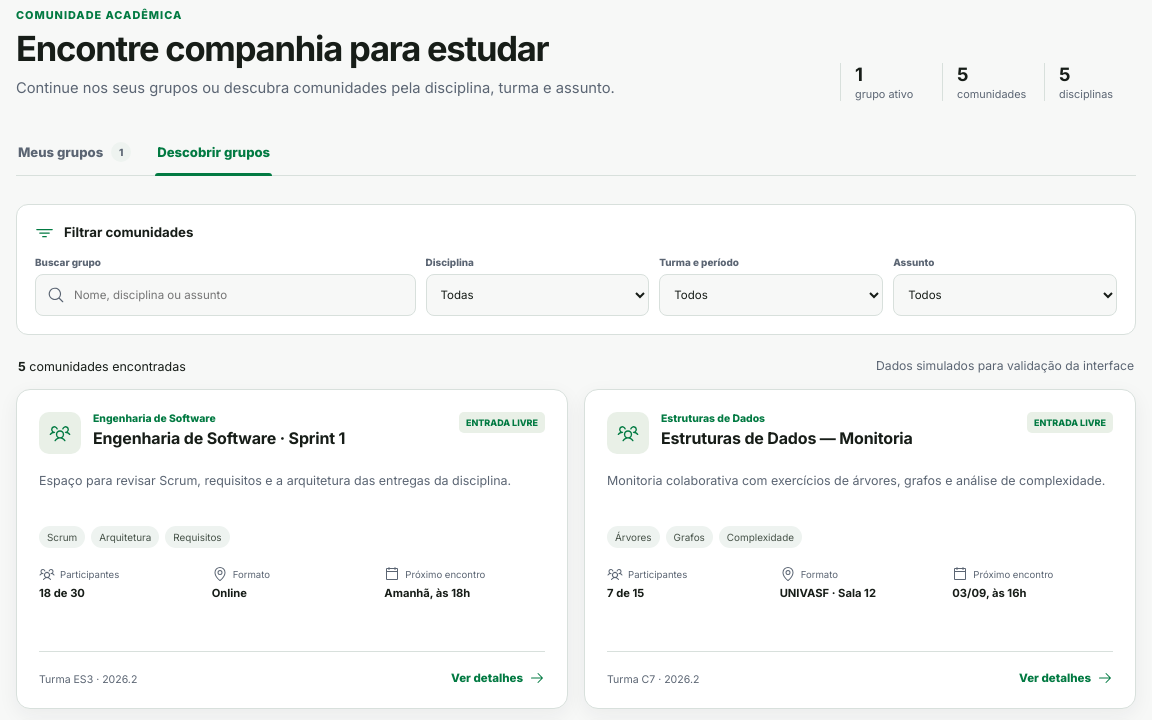
Scenario: GroupDirectory › filtra comunidades por disciplina e limpa os filtros
Select "Banco de Dados" in the dropdown labelled "Disciplina" at (537, 295), box x1=426 y1=274 x2=649 y2=316
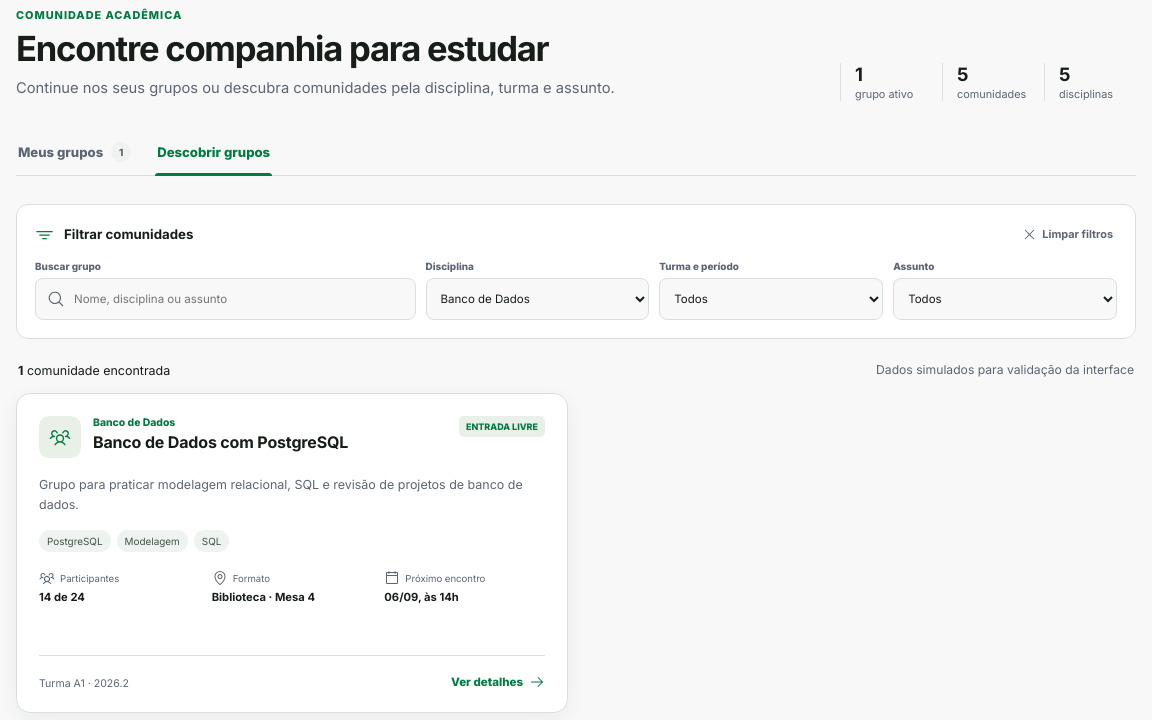
Expected: the heading "Banco de Dados com PostgreSQL" is shown, x1=93 y1=432 x2=348 y2=452
Expected: the heading "Engenharia de Software · Sprint 1" is gone
Click the button "Limpar filtros" at (1068, 234), box x1=1018 y1=223 x2=1117 y2=246
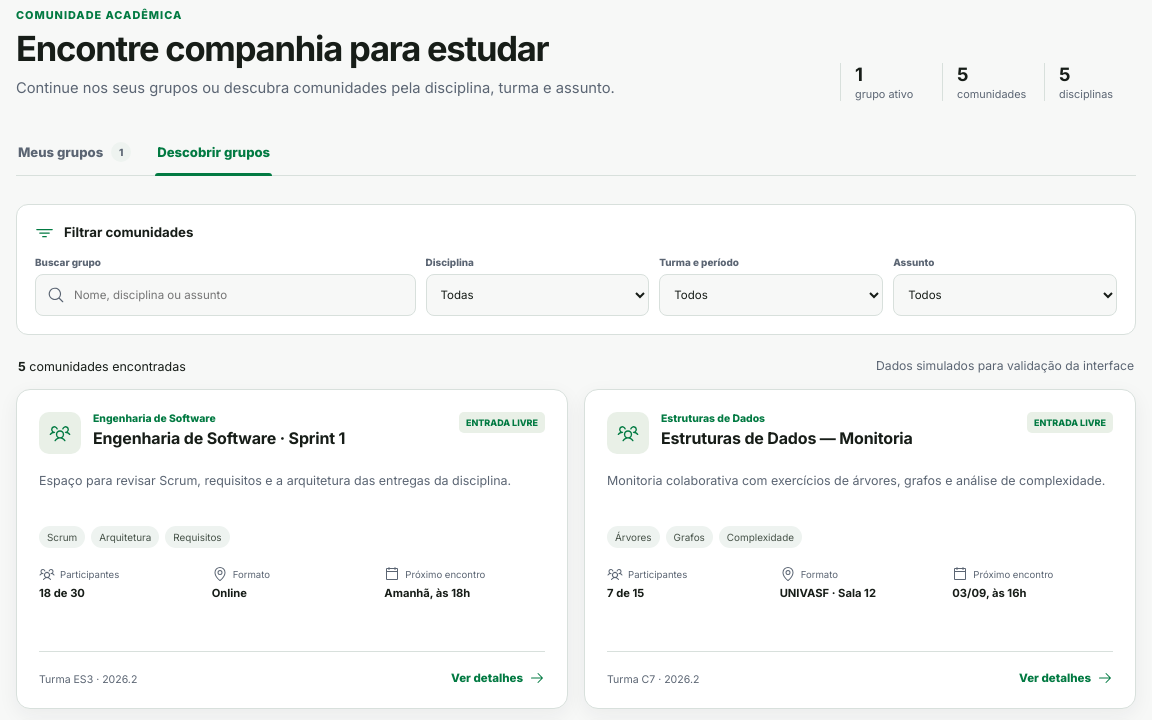
Expected: the message shows "5 comunidades encontradas", x1=18 y1=357 x2=1134 y2=375
